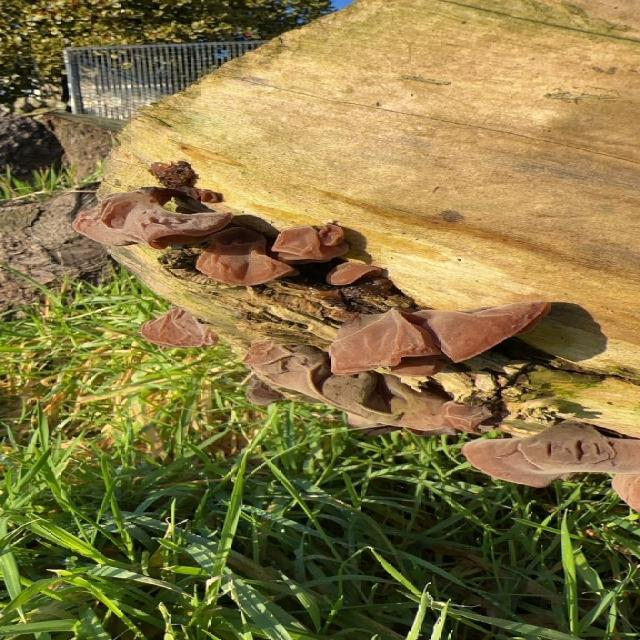Matang: (135, 300, 632, 508), (72, 172, 390, 300), (326, 283, 572, 379)
